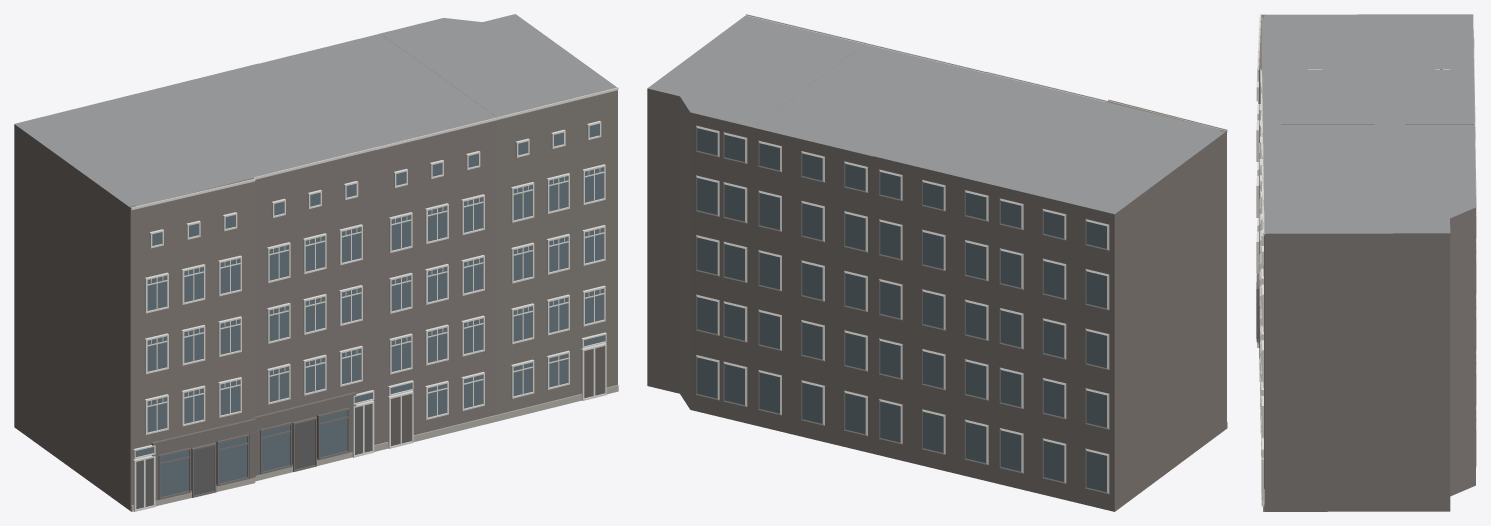
The model's file is chunk-face-molukken-7-29-r2.glb.
The picture shows the model from 3 angles, left to right: view 1: azimuth 30°, elevation 25°; view 2: azimuth 150°, elevation 25°; view 3: azimuth 270°, elevation 25°; orthographic projection. The views are drawn at different scales.
Parts seen in each view (by area): view 1: face-molukken-7-29-r2; view 2: face-molukken-7-29-r2; view 3: face-molukken-7-29-r2.
Part boxes in pixels (left/top/right/bottom): face-molukken-7-29-r2: left=14, top=14, right=618, bottom=511; face-molukken-7-29-r2: left=647, top=14, right=1227, bottom=511; face-molukken-7-29-r2: left=1256, top=14, right=1476, bottom=511.
Size of the model in its own units: 24.87 by 14.75 by 10.57.
